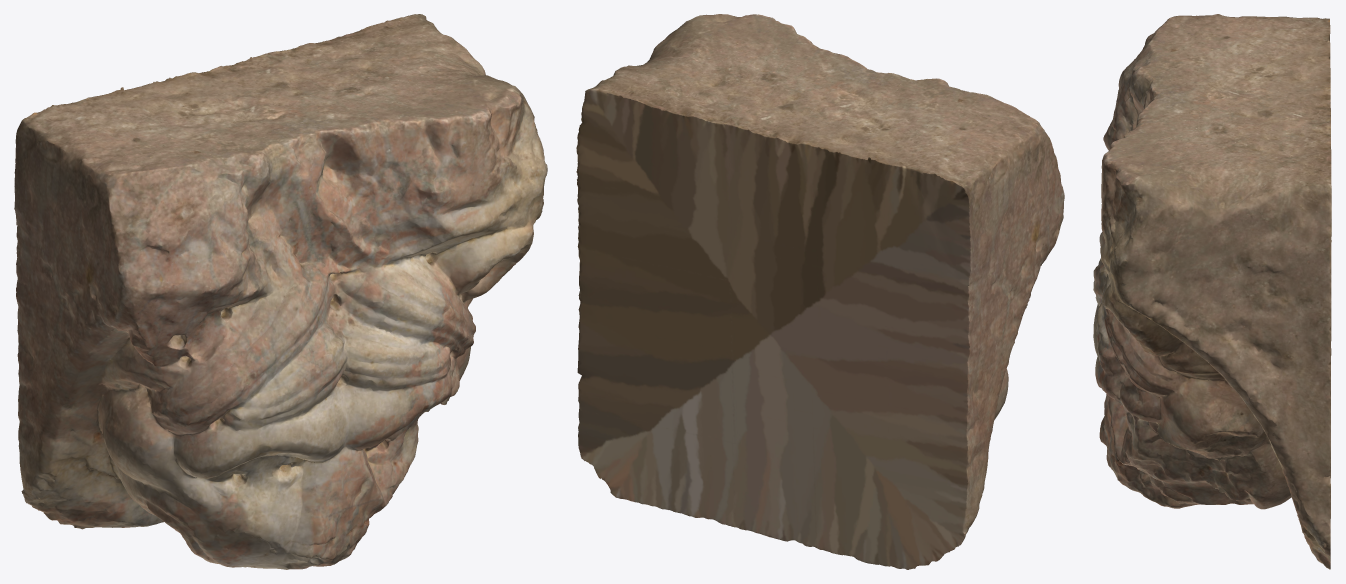
The model's file is corbel_25_120_601.glb.
The picture shows the model from 3 angles, left to right: view 1: azimuth 30°, elevation 25°; view 2: azimuth 150°, elevation 25°; view 3: azimuth 270°, elevation 25°; orthographic projection. The views are drawn at different scales.
Visible parts, largest first — view 1: ADVIMG_25_120_601_Corble_MASTER_n3d; view 2: ADVIMG_25_120_601_Corble_MASTER_n3d; view 3: ADVIMG_25_120_601_Corble_MASTER_n3d.
Part boxes in pixels (x1,y1,x2,y2): ADVIMG_25_120_601_Corble_MASTER_n3d: (14, 14, 547, 569); ADVIMG_25_120_601_Corble_MASTER_n3d: (576, 14, 1064, 569); ADVIMG_25_120_601_Corble_MASTER_n3d: (1093, 14, 1331, 569).
Bounding box in the file's own units: 0.162 × 0.162 × 0.0868.
1 material, 1 textured.
